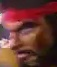ryu: (0, 0, 54, 66)
